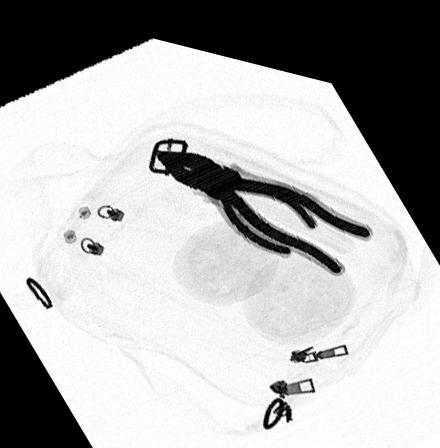Pliers: (160, 140, 372, 258), (149, 140, 318, 243)
